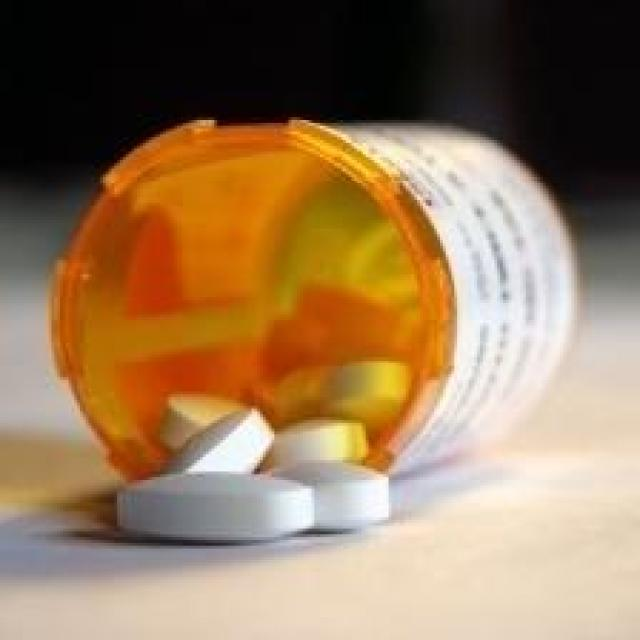Medicine: (36, 90, 592, 594)
